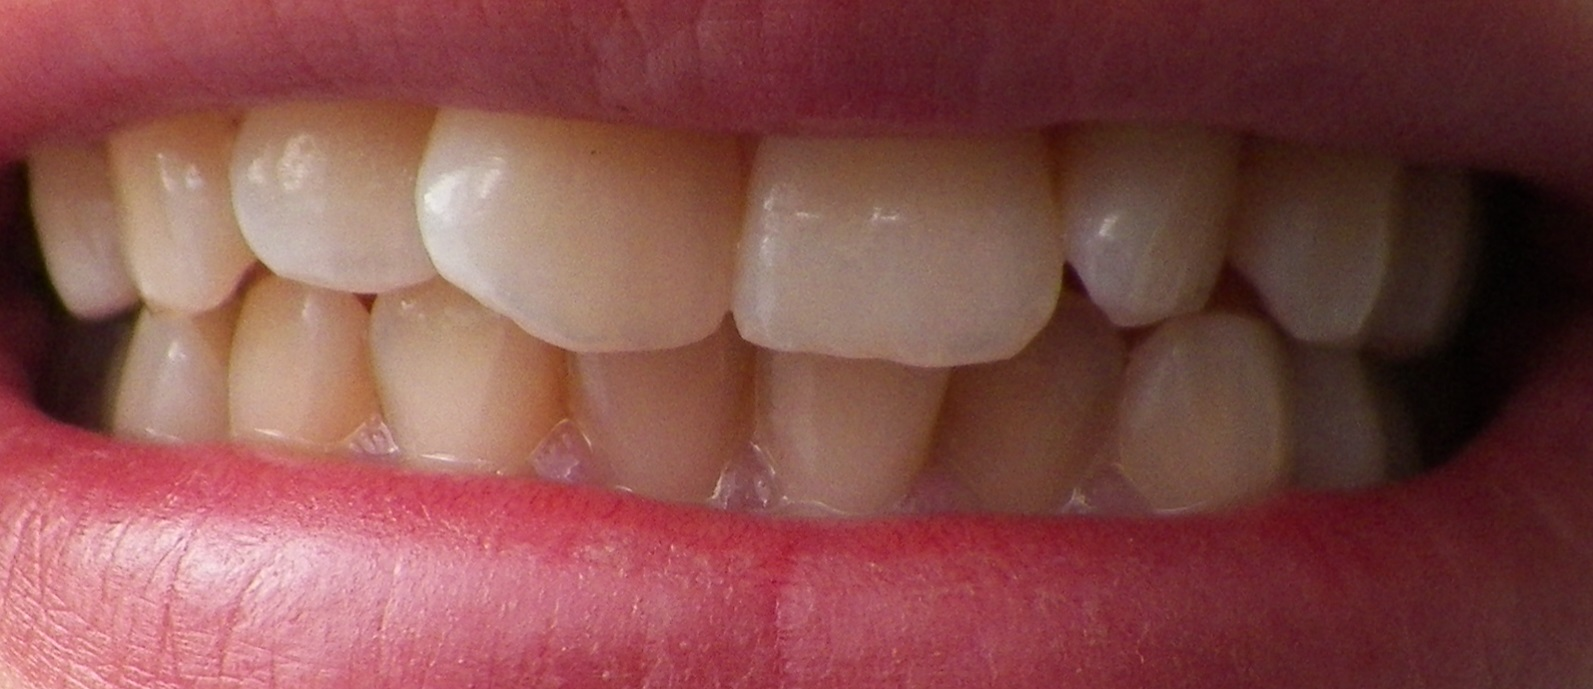boca: (47, 88, 1492, 527)
